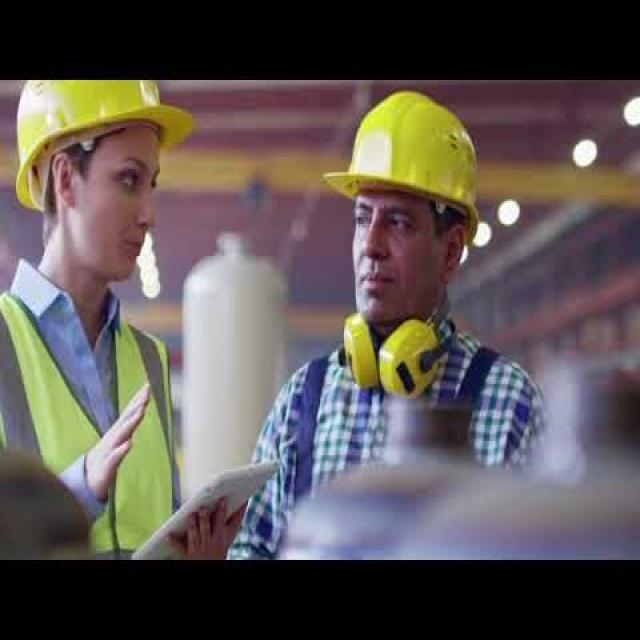helmet: (321, 117, 477, 428), (15, 108, 194, 379)
vest: (2, 365, 191, 640)
